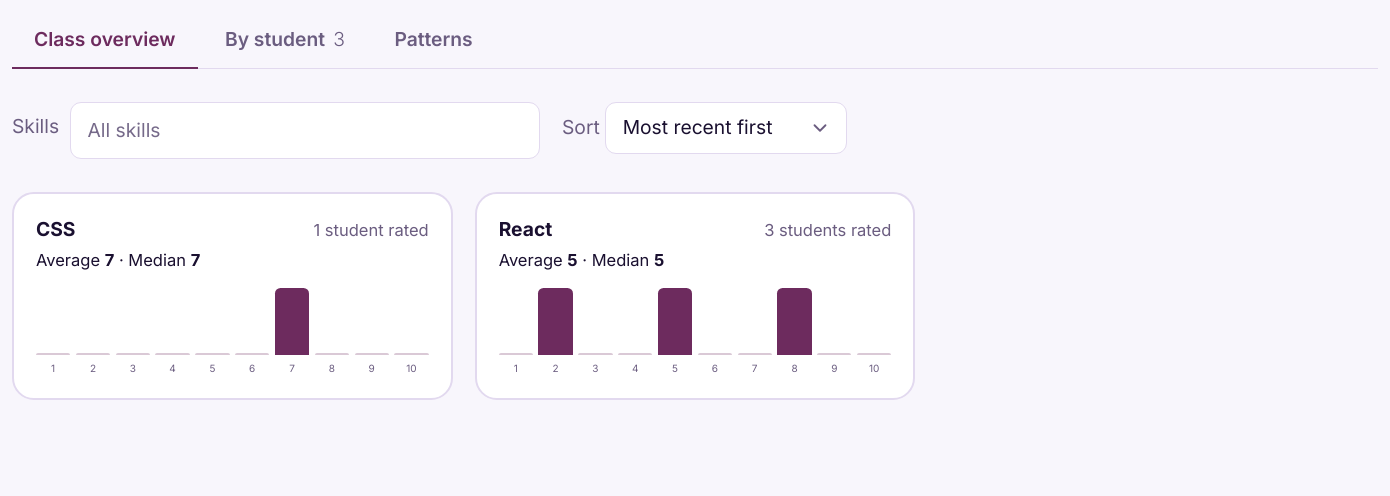
Scenario: SkillConfidenceInstructorView › lets you search the skill and student dropdowns by typing
Type "cs" into the dropdown labelled "Skills" at (305, 131), box top-left (82, 111), bottom-right (528, 150)
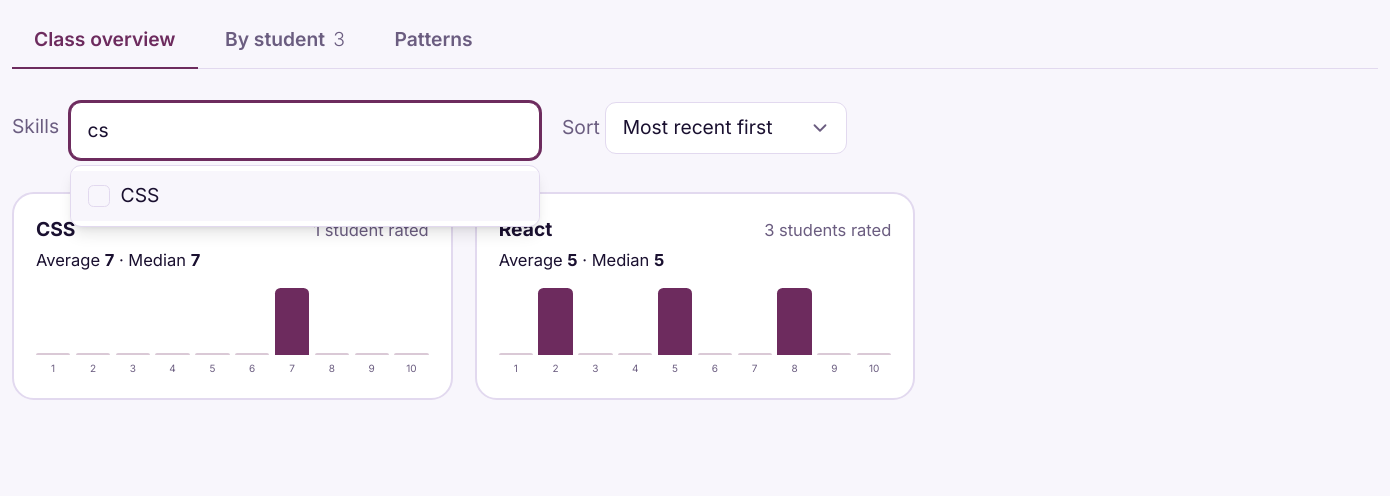
Result: the options read "CSS", in this order at top-left (71, 171), bottom-right (539, 220)
Press Enter
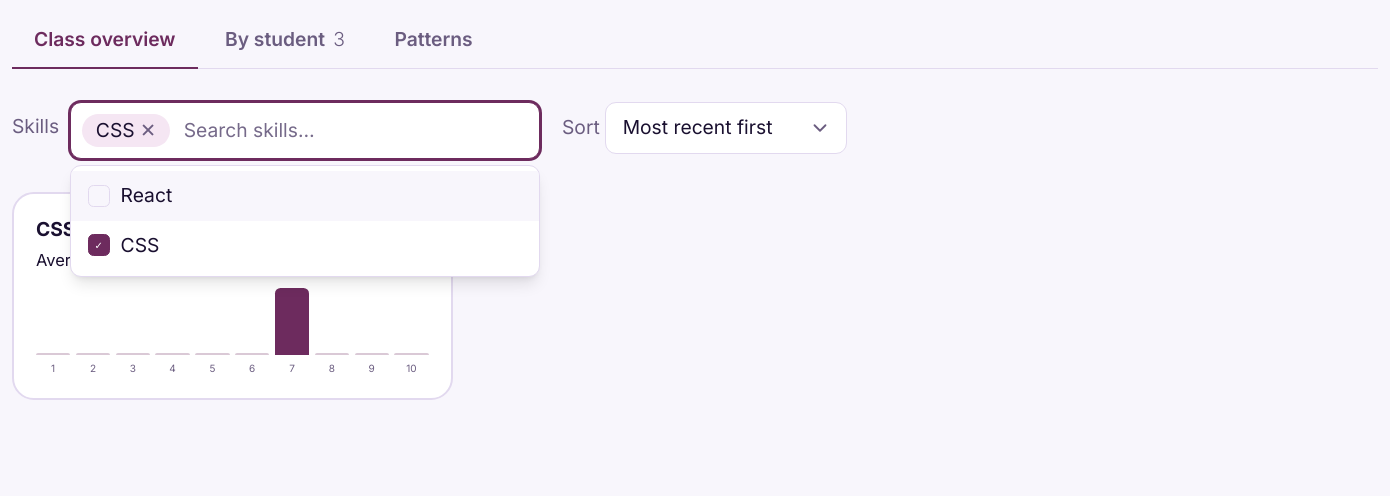
Result: the button with aria-label "Remove CSS" is shown at top-left (82, 114), bottom-right (170, 147)
Click the tab "By student3" at (285, 40), box top-left (203, 12), bottom-right (367, 69)
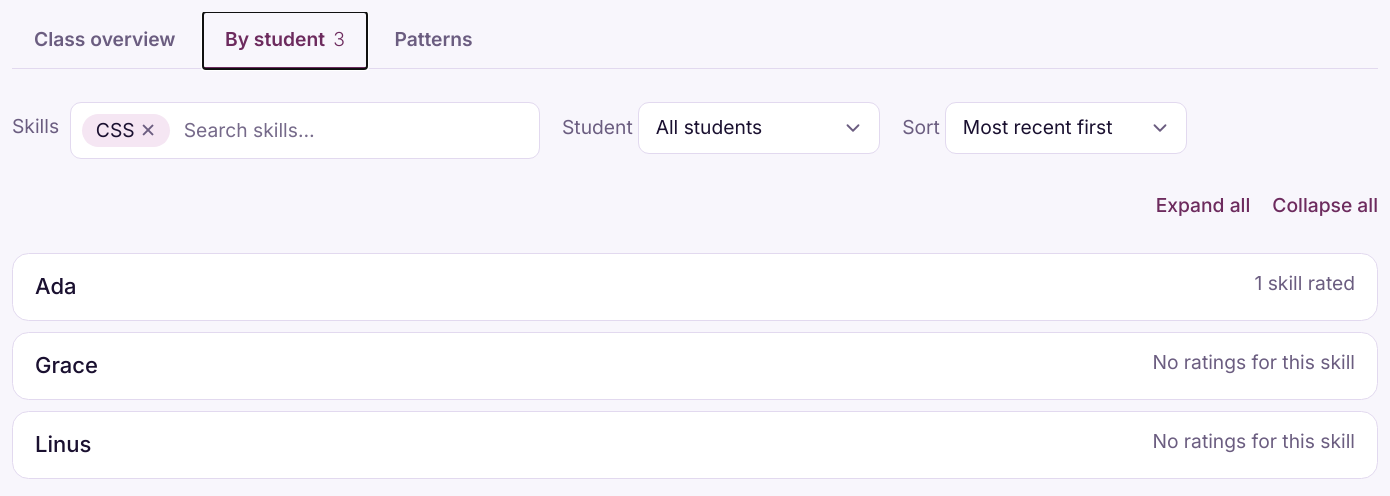
Type "gra" into the dropdown labelled "Student" at (759, 128), box top-left (638, 102), bottom-right (880, 154)
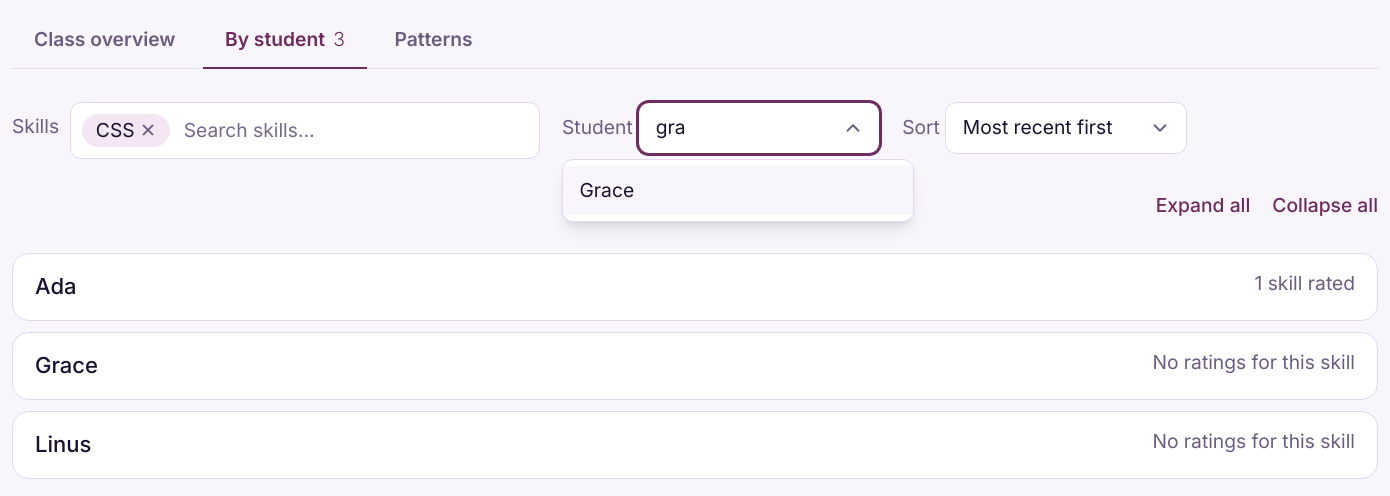
Result: the options read "Grace", in this order at top-left (563, 166), bottom-right (913, 215)
Type "zzz" into the dropdown labelled "Student" at (759, 128), box top-left (638, 102), bottom-right (880, 154)
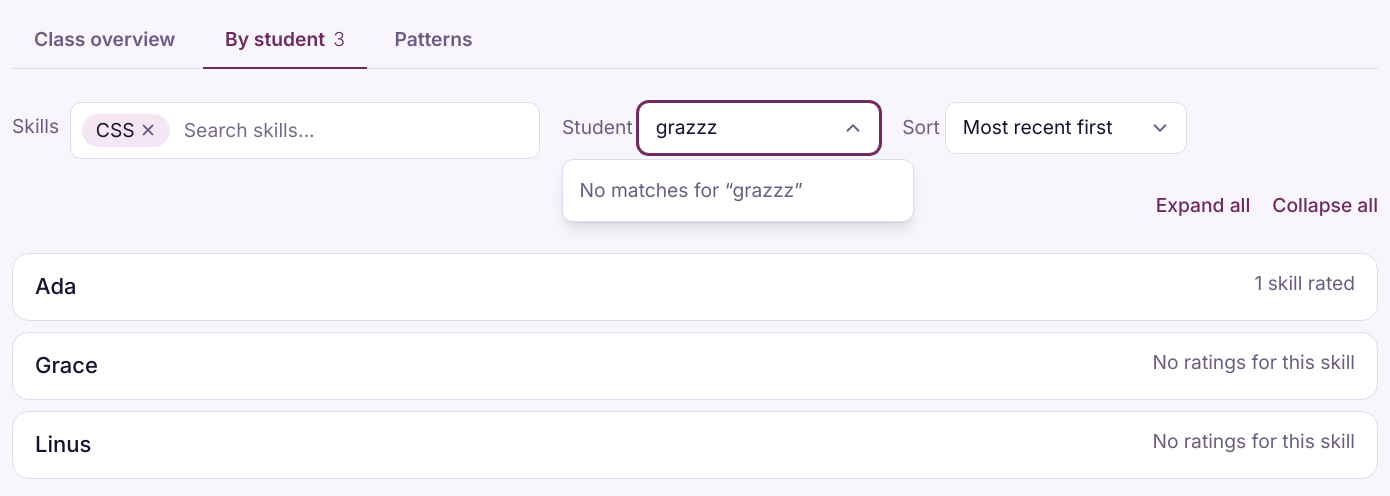
Result: the list item "No matches" is shown at top-left (580, 178), bottom-right (732, 202)
